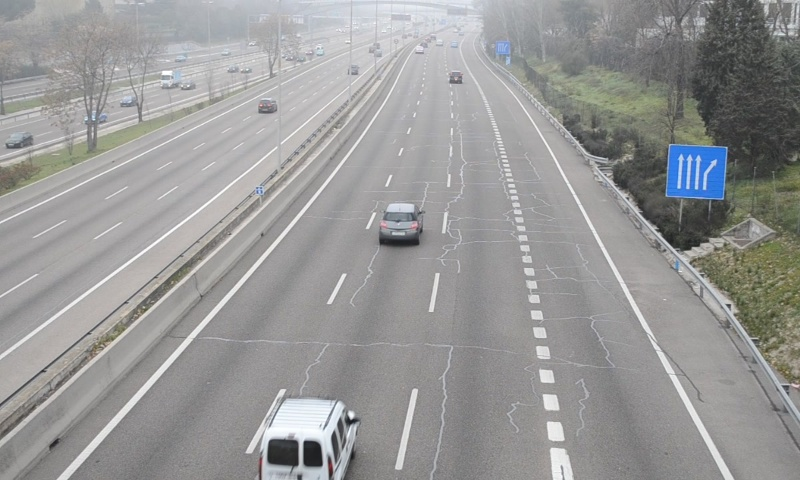car: (380, 202, 423, 241), (450, 70, 462, 84)
van: (256, 396, 358, 480)
